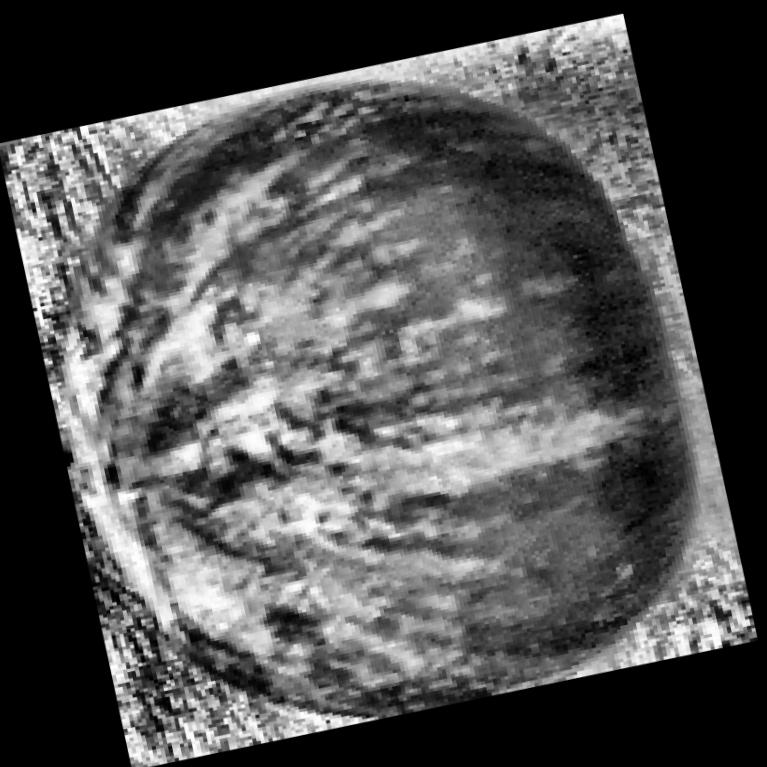qualityHazelnut: (0, 0, 763, 767)
